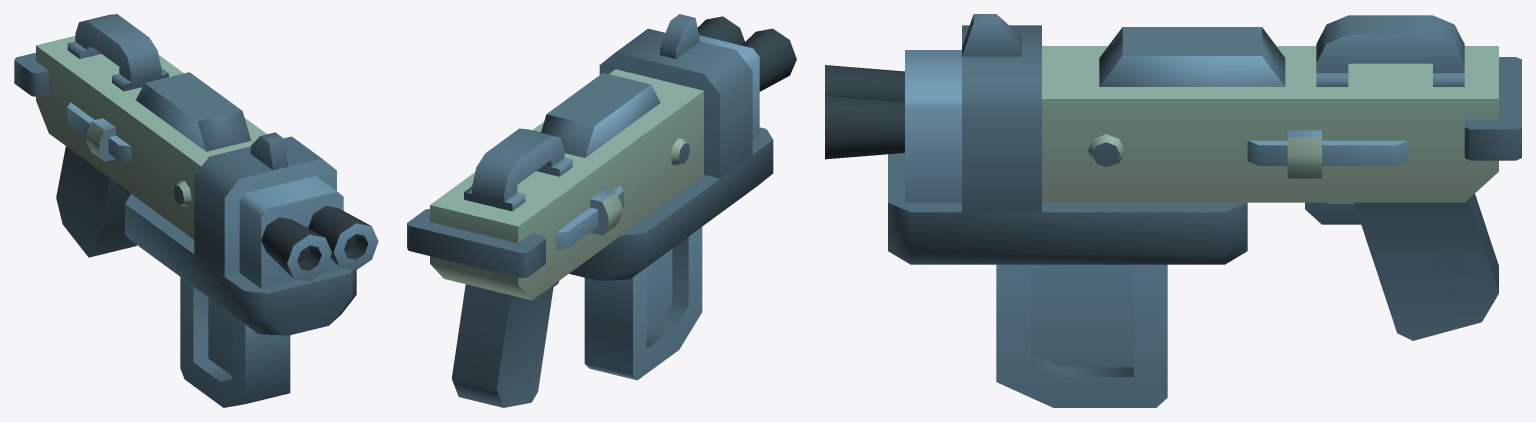
Rendered from freeze_ray.glb.
The picture shows the model from 3 angles, left to right: view 1: azimuth 30°, elevation 25°; view 2: azimuth 150°, elevation 25°; view 3: azimuth 270°, elevation 25°; orthographic projection. The views are drawn at different scales.
Parts seen in each view (by area): view 1: blaster-j, magazine; view 2: blaster-j, magazine; view 3: blaster-j, magazine.
Part boxes in pixels (x1,y1,x2,y2): blaster-j: [14, 14, 378, 335]; magazine: [180, 277, 290, 407]; blaster-j: [407, 14, 796, 407]; magazine: [584, 227, 702, 380]; blaster-j: [825, 14, 1521, 340]; magazine: [996, 264, 1167, 407].
Bounding box in the file's own units: 0.1143 × 0.267 × 0.45.
1 material, 1 textured.
